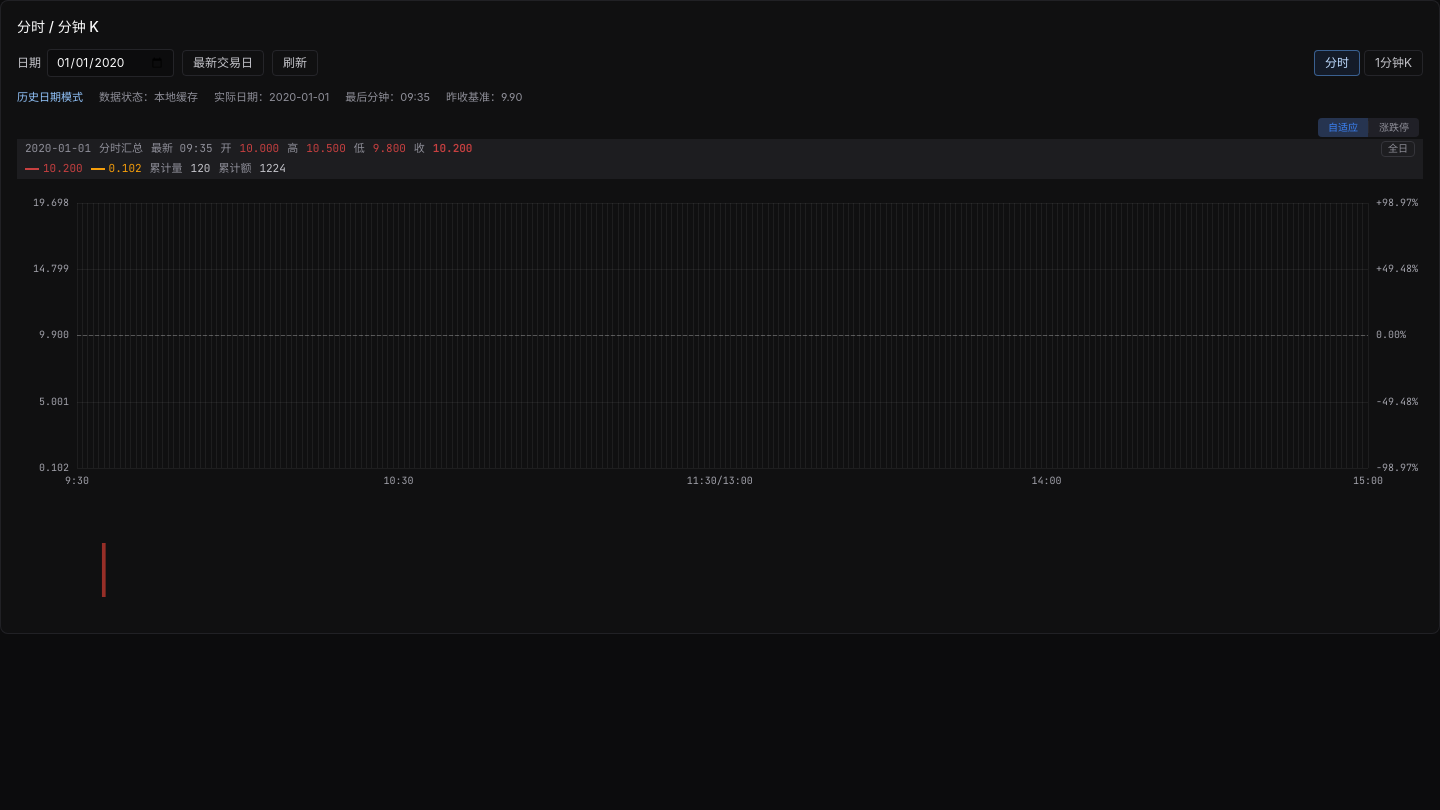
Test: invalidates only the exact latest cache before switching away from a historical date
Click the button "最新交易日": (223, 63) [182,50,264,76]
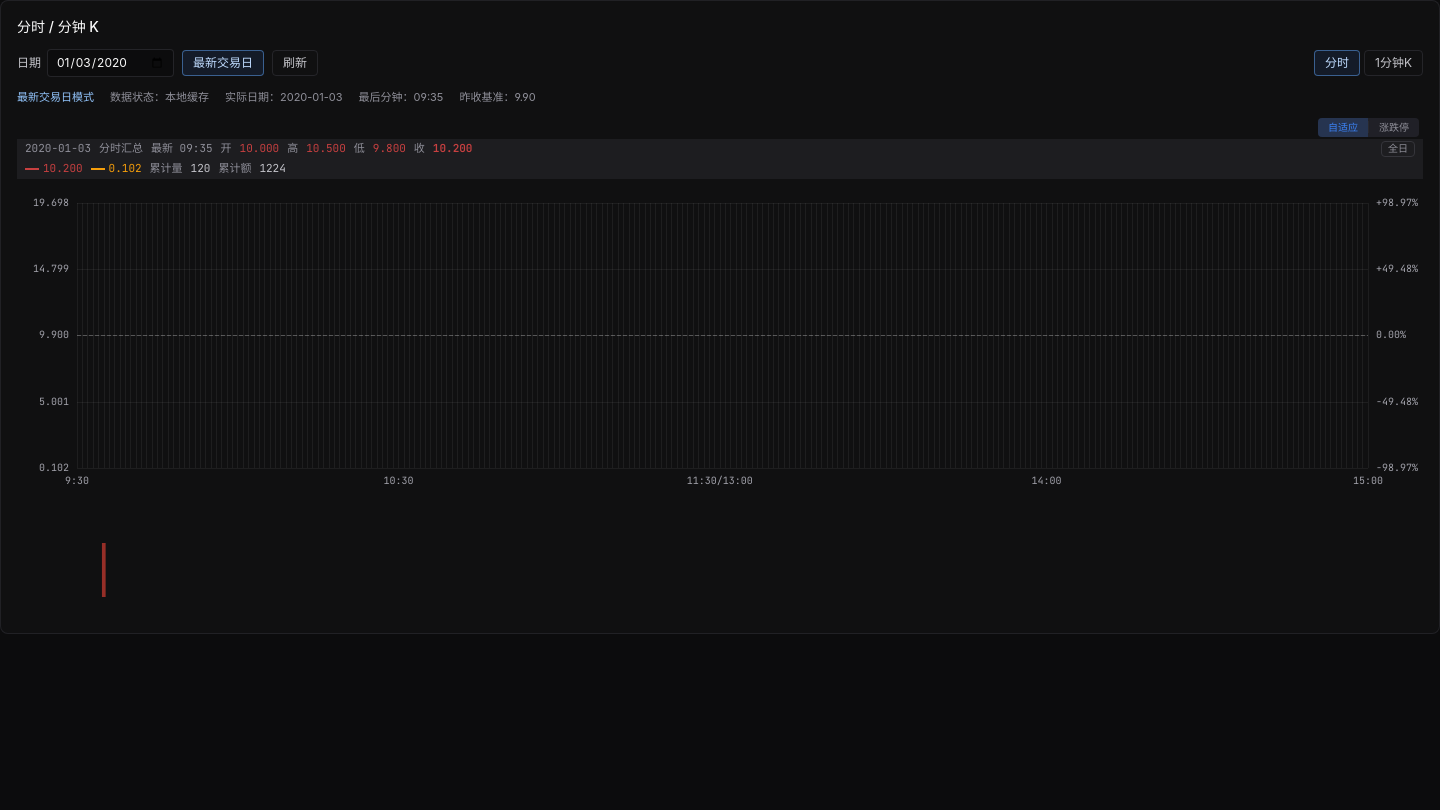
Expected: the text "实际日期：2020-01-03" is shown, [225,89,343,106]
